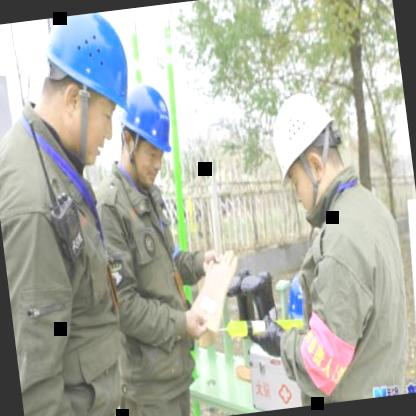helmet: (21, 9, 146, 172), (256, 78, 356, 226), (108, 70, 182, 191)
